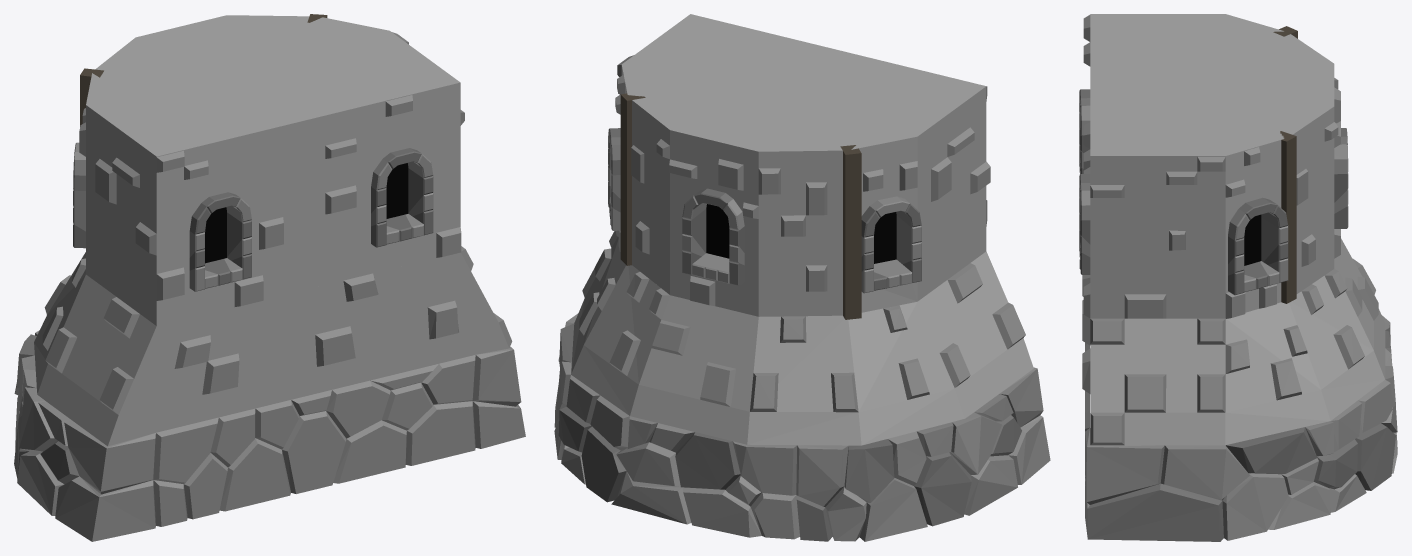
The model's file is FORTRESS_PARTS_RIG.fbx.
3 renders of one model, left to right at view 1: azimuth 30°, elevation 25°; view 2: azimuth 150°, elevation 25°; view 3: azimuth 270°, elevation 25°, orthographic. The views are drawn at different scales.
Parts seen in each view (by area): view 1: FORTRESS_OSNOVA_01, FORTRESS_MIDDLE_01; view 2: FORTRESS_OSNOVA_01, FORTRESS_MIDDLE_01; view 3: FORTRESS_MIDDLE_01, FORTRESS_OSNOVA_01.
Part boxes in pixels (left/top/right/bottom): FORTRESS_OSNOVA_01: left=14, top=246, right=525, bottom=541; FORTRESS_MIDDLE_01: left=73, top=14, right=464, bottom=325; FORTRESS_OSNOVA_01: left=554, top=231, right=1050, bottom=541; FORTRESS_MIDDLE_01: left=608, top=14, right=990, bottom=319; FORTRESS_MIDDLE_01: left=1079, top=14, right=1348, bottom=318; FORTRESS_OSNOVA_01: left=1082, top=238, right=1397, bottom=541.
Bounding box in the file's own units: 624 × 498 × 406.
